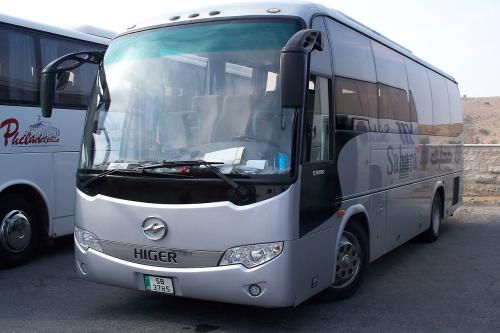bus: (69, 13, 477, 275)
